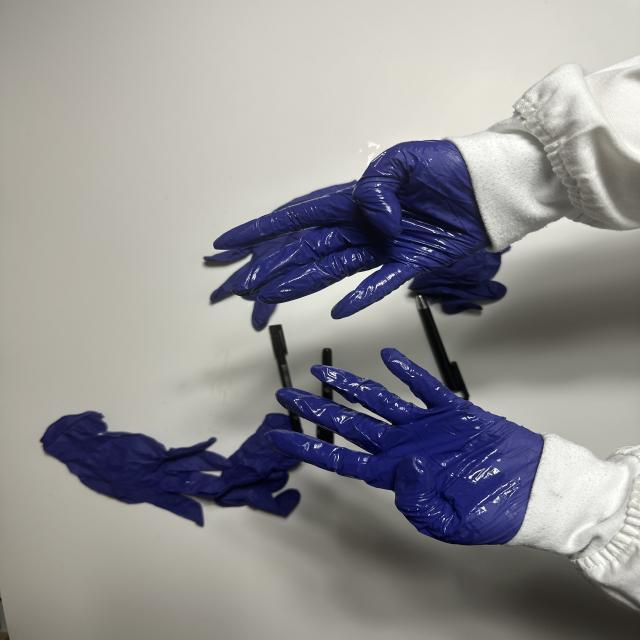gloves_contaminated: (267, 348, 543, 545), (215, 141, 490, 318)
